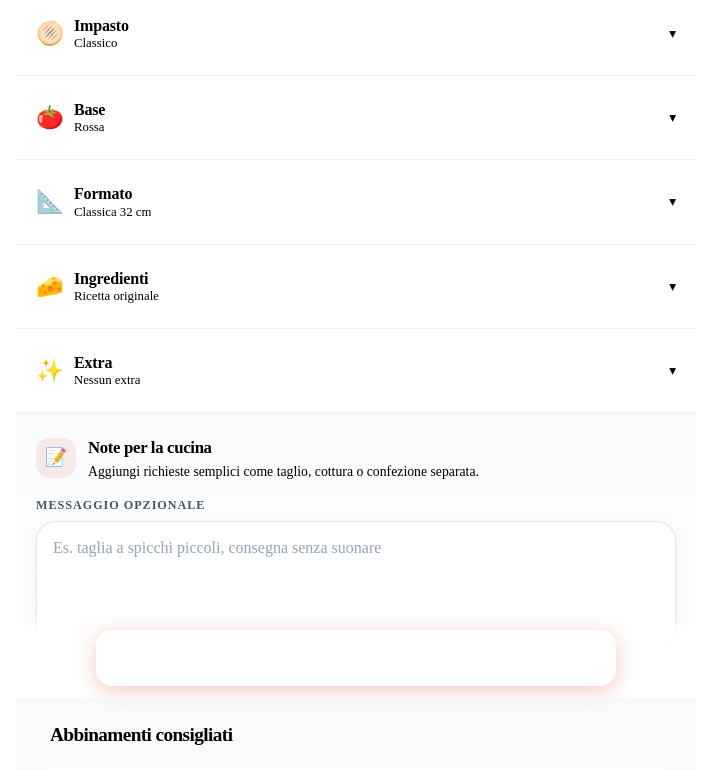
Test case: product detail screen › renders the pizza generator preview and customization sections
(page scrolled)
Expected: the heading "Impasto" is shown, x1=74 y1=16 x2=129 y2=35
Expected: the heading "Base" is shown, x1=74 y1=100 x2=105 y2=119
Click the button "✨ Extra Nessun extra ▾" at (93, 362), box x1=16 y1=329 x2=696 y2=412
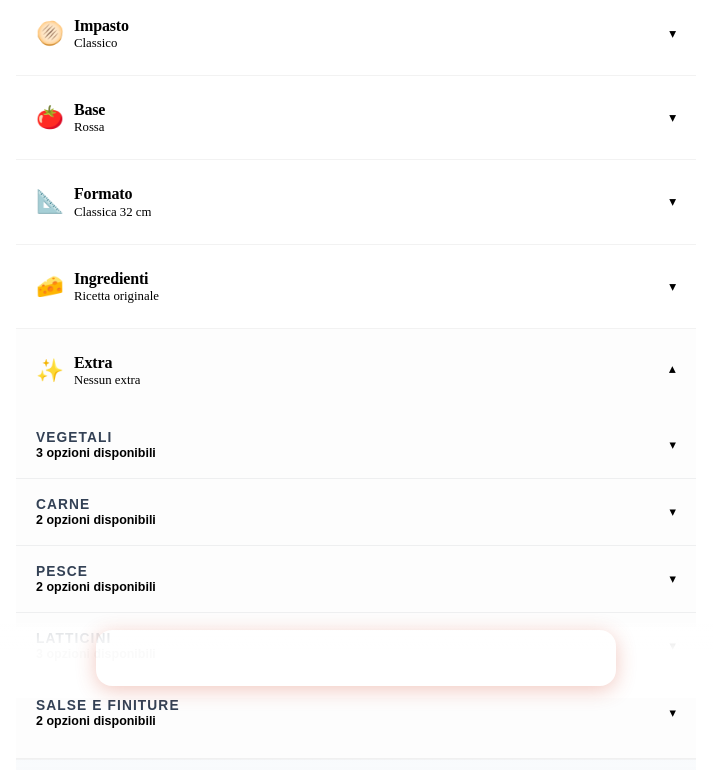
Now the heading "Vegetali" is shown, box x1=36 y1=430 x2=112 y2=445
Now the heading "Carne" is shown, box x1=36 y1=497 x2=90 y2=512
Now the heading "Pesce" is shown, box x1=36 y1=564 x2=88 y2=579
